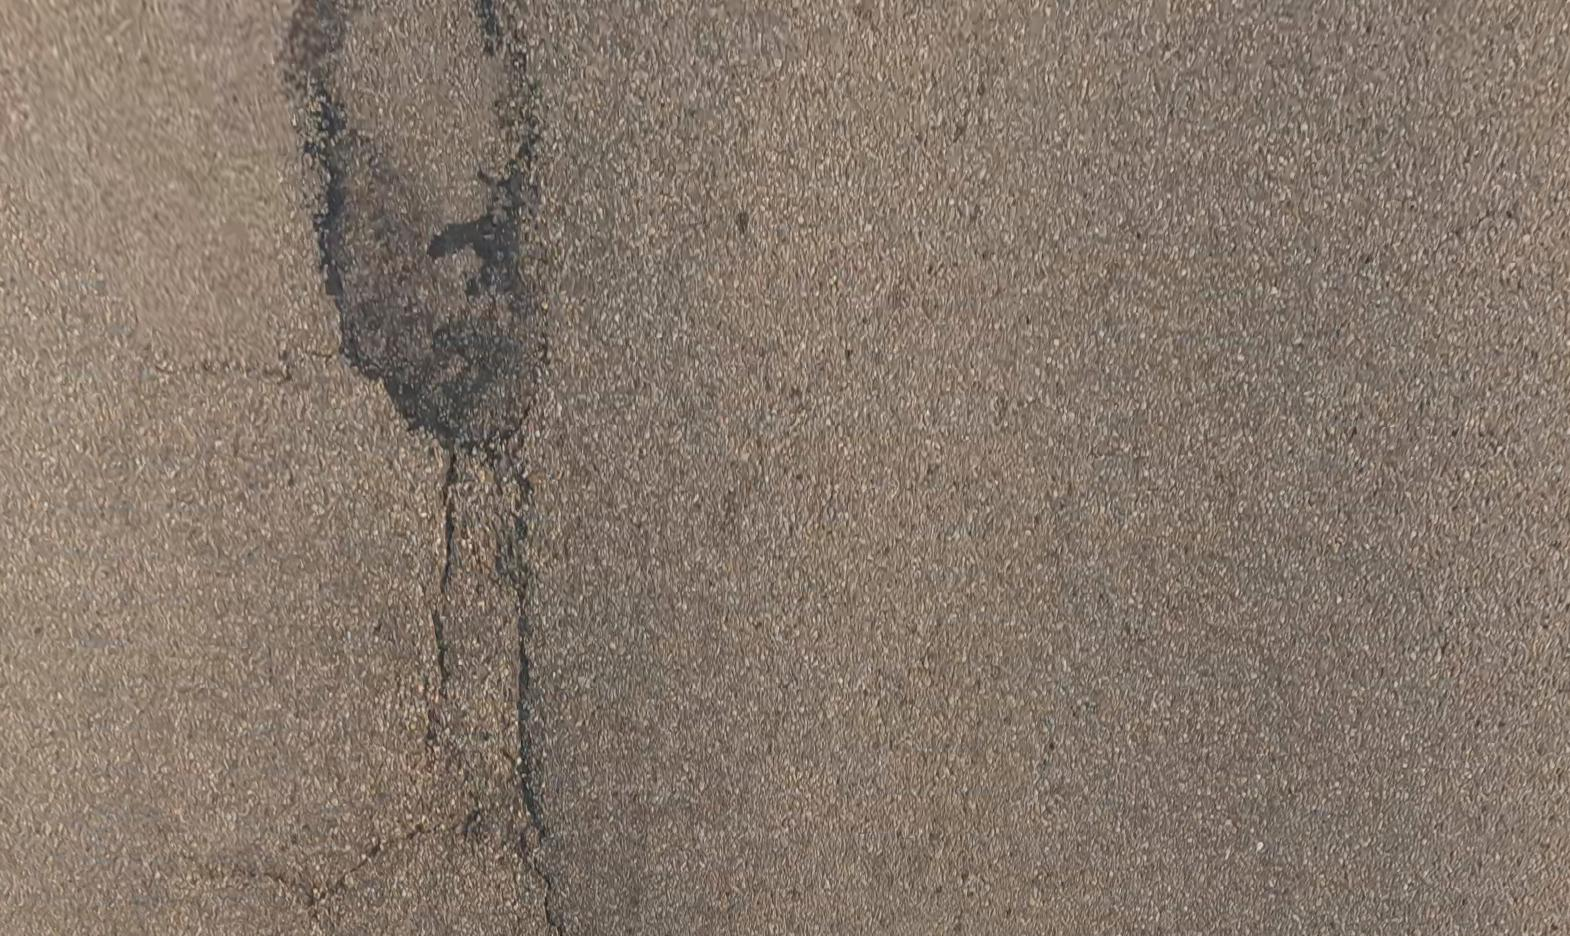pothole_patch_poor: (282, 0, 543, 881)
